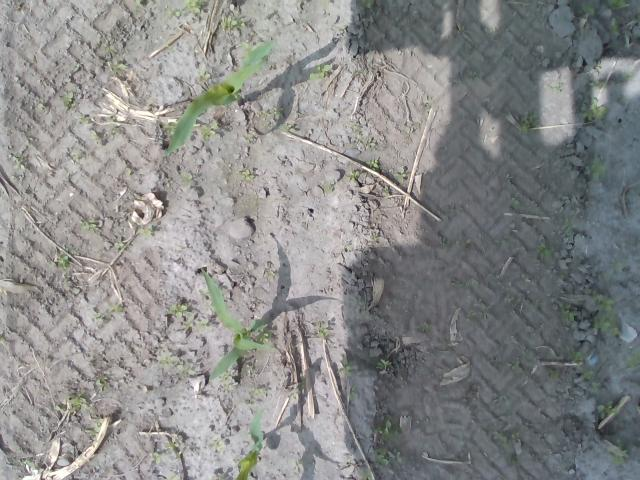Maize: (168, 38, 276, 154), (200, 267, 268, 380), (236, 405, 266, 480)
Weeds: (372, 416, 402, 468), (590, 291, 622, 338), (492, 429, 528, 466), (496, 353, 538, 376), (160, 356, 196, 378), (582, 97, 606, 124), (92, 302, 124, 322), (580, 368, 604, 394), (60, 243, 76, 271), (200, 120, 222, 140), (309, 61, 332, 80), (222, 16, 247, 32), (519, 116, 538, 137), (588, 161, 608, 180), (535, 240, 554, 260), (597, 400, 617, 418), (172, 302, 192, 320), (16, 457, 38, 473), (562, 304, 579, 323), (88, 416, 102, 439), (625, 349, 640, 369), (80, 217, 99, 231), (168, 440, 181, 460), (68, 396, 87, 409), (135, 226, 155, 238), (185, 0, 208, 10), (611, 447, 626, 462), (374, 359, 391, 372), (345, 169, 362, 182), (608, 0, 629, 10), (239, 168, 254, 182), (341, 362, 354, 378), (570, 351, 584, 365), (96, 375, 110, 389), (590, 77, 605, 90), (392, 168, 408, 180), (606, 19, 618, 34), (358, 0, 377, 9), (62, 92, 72, 109), (198, 319, 211, 332), (199, 69, 212, 82), (548, 368, 562, 380), (149, 452, 163, 464), (366, 158, 380, 170), (416, 322, 432, 332), (111, 62, 127, 72), (166, 8, 182, 18), (580, 0, 593, 12), (258, 332, 271, 344), (13, 155, 24, 169), (364, 138, 376, 150), (284, 124, 298, 134), (510, 196, 521, 208), (253, 388, 266, 398), (112, 240, 126, 249), (318, 328, 330, 338), (594, 62, 604, 72)
